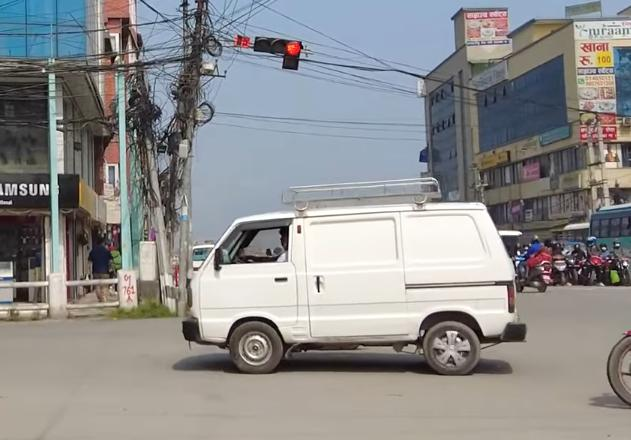van: (174, 172, 530, 383)
